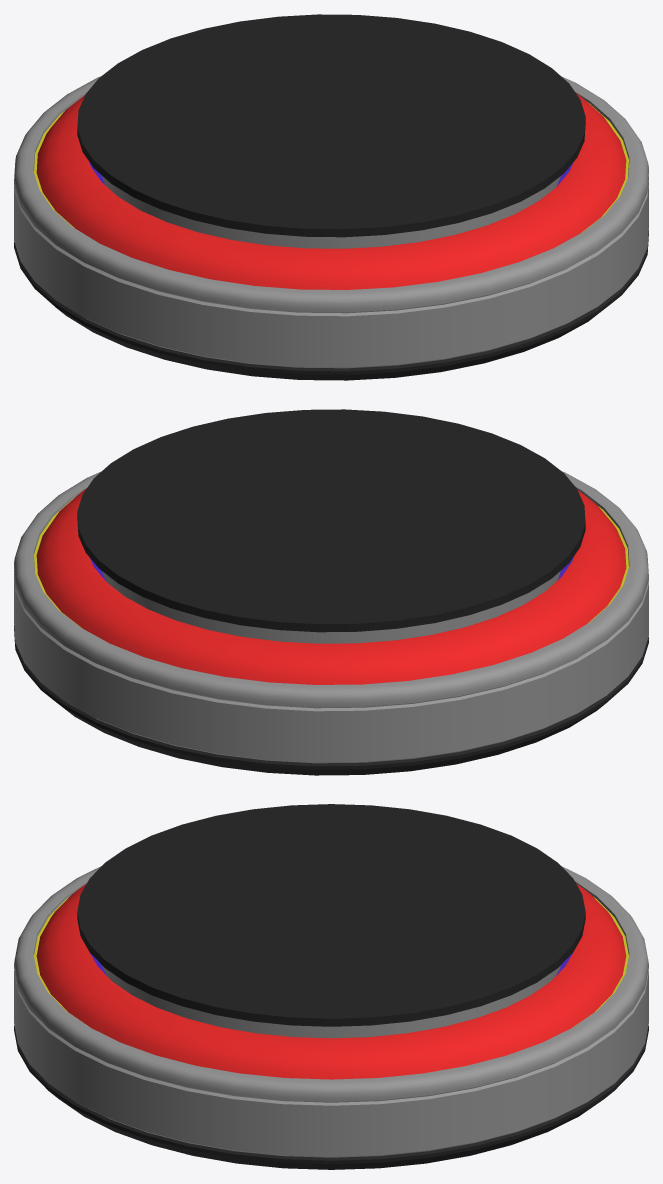
File: Pedestal_base.fbx
The picture shows the model from 3 angles, top to bottom: view 1: azimuth 30°, elevation 25°; view 2: azimuth 150°, elevation 25°; view 3: azimuth 270°, elevation 25°; orthographic projection.
Parts seen in each view (by area): view 1: Cylinder001; view 2: Cylinder001; view 3: Cylinder001.
Part boxes in pixels (box(x1,y1,x2,y2)): Cylinder001: box(14, 14, 648, 380); Cylinder001: box(14, 409, 648, 775); Cylinder001: box(14, 804, 648, 1169).
Size of the model in its own units: 107 by 23.93 by 107.
